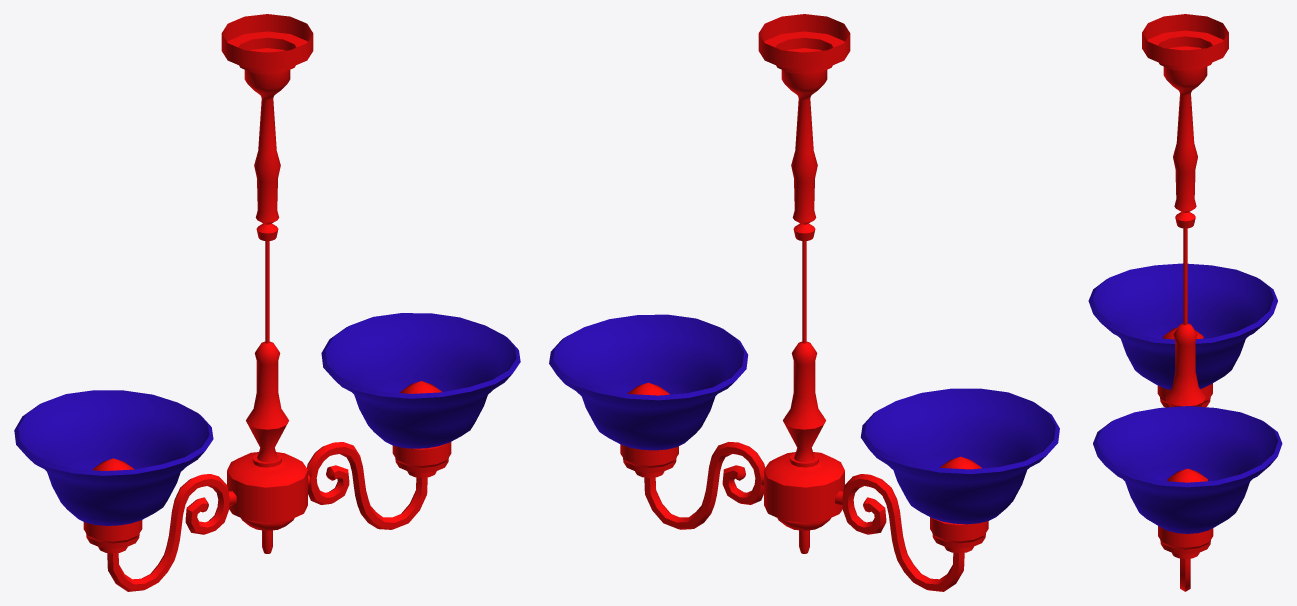
File: Light.fbx
3 renders of one model, left to right at view 1: azimuth 30°, elevation 25°; view 2: azimuth 150°, elevation 25°; view 3: azimuth 270°, elevation 25°, orthographic. The views are drawn at different scales.
Visible parts, largest first — view 1: Light01; view 2: Light01; view 3: Light01.
Part boxes in pixels (<box>): Light01: <box>14,14,520,591</box>; Light01: <box>549,14,1059,591</box>; Light01: <box>1088,14,1282,591</box>.
Size of the model in its own units: 103 by 108 by 38.03.
